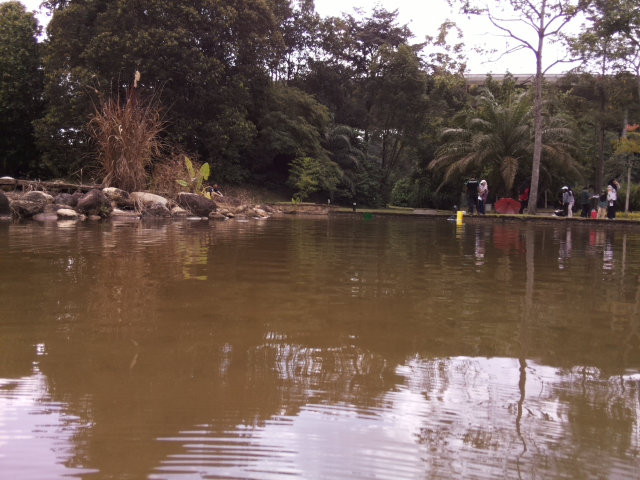obstacle: (360, 211, 373, 220)
